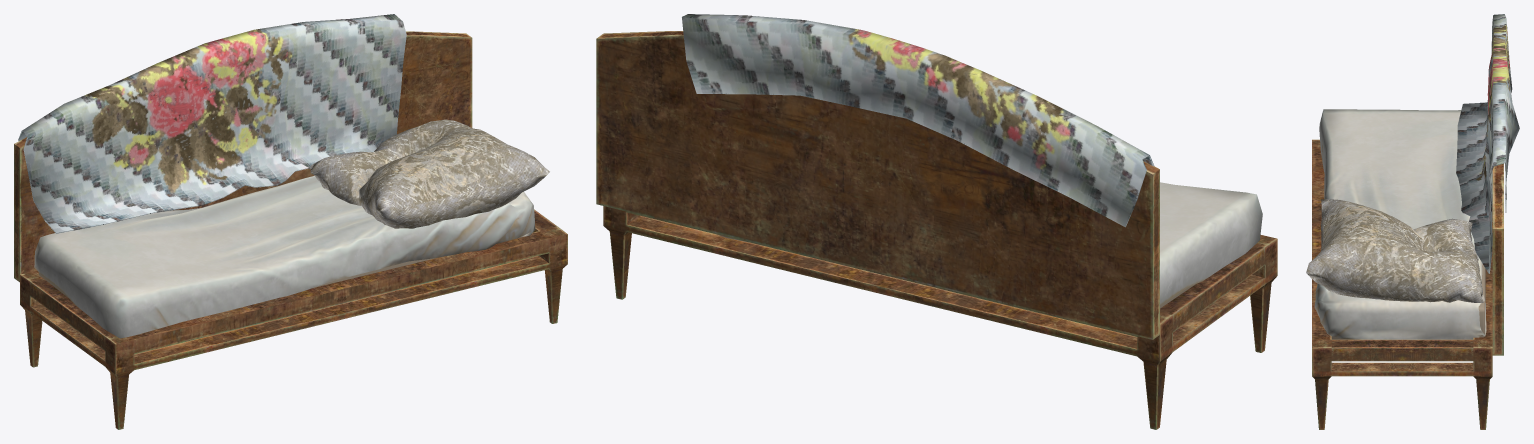
File: vintage_day_bed_floor_centered_1k_candidate.glb
3 views of the same model, side by side, from view 1: azimuth 30°, elevation 25°; view 2: azimuth 150°, elevation 25°; view 3: azimuth 270°, elevation 25° (orthographic). The views are drawn at different scales.
Visible parts, largest first — view 1: vintage_day_bed; view 2: vintage_day_bed; view 3: vintage_day_bed.
Boxes of the visible parts, x1,y1,x2,y2 form: vintage_day_bed: (14,14,567,429); vintage_day_bed: (596,14,1277,429); vintage_day_bed: (1306,14,1519,429).
Bounding box in the file's own units: 1.97 × 1.13 × 0.8548.
Materials: 1 (1 with a texture image).
